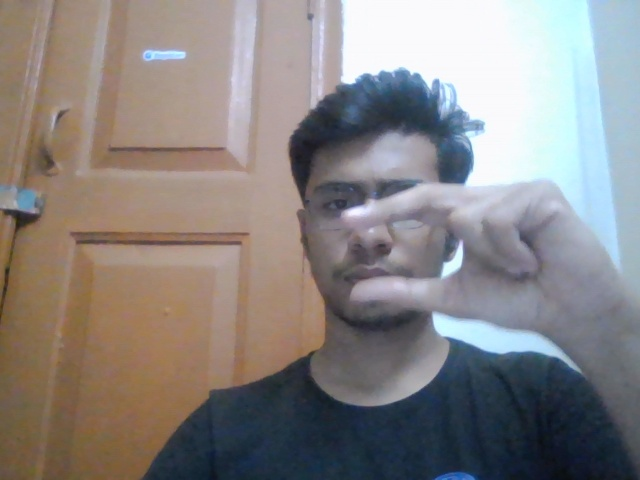No: (331, 168, 611, 335)
